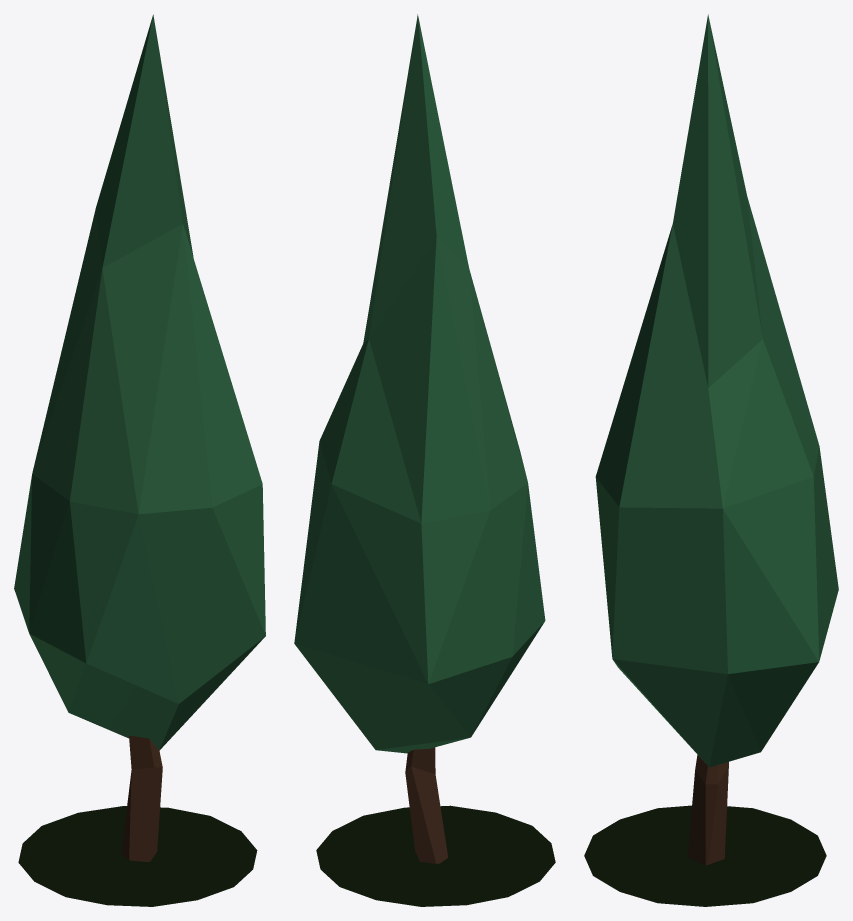
Rendered from Drzewo3.fbx.
3 views of the same model, side by side, from view 1: azimuth 30°, elevation 25°; view 2: azimuth 150°, elevation 25°; view 3: azimuth 270°, elevation 25° (orthographic).
Visible parts, largest first — view 1: Drzewo3; view 2: Drzewo3; view 3: Drzewo3.
Part boxes in pixels (left/top/right/bottom): Drzewo3: left=14, top=14, right=265, bottom=906; Drzewo3: left=294, top=14, right=555, bottom=906; Drzewo3: left=584, top=14, right=838, bottom=906.
Bounding box in the file's own units: 130 × 495 × 131.
